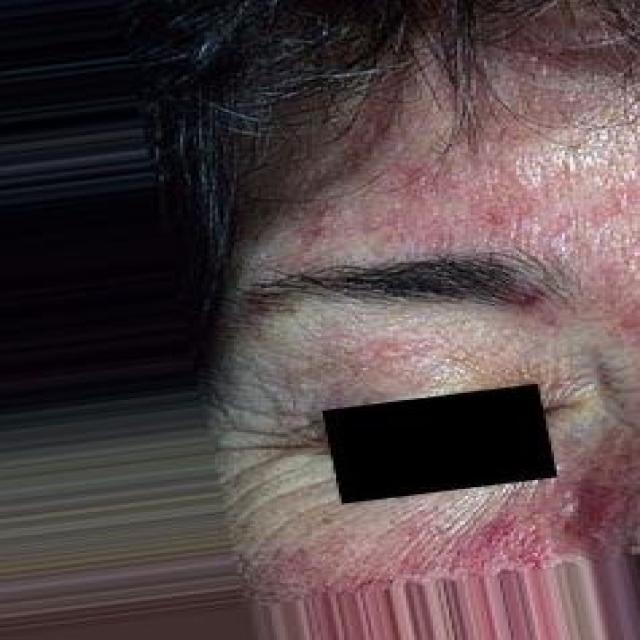Rosacea: (297, 75, 640, 332), (296, 484, 618, 570)
